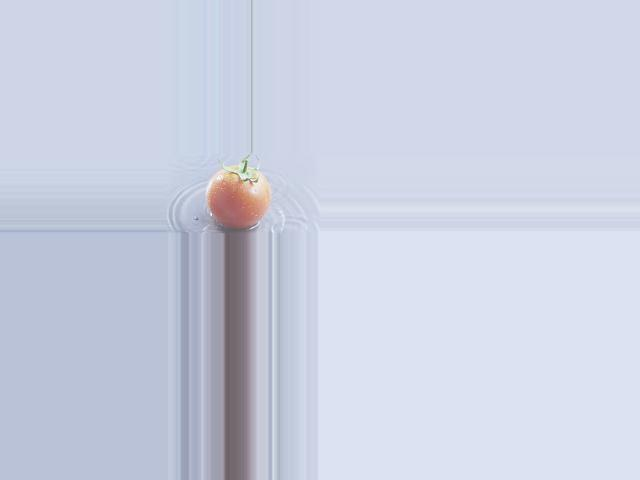tomato: (206, 166, 270, 229)
